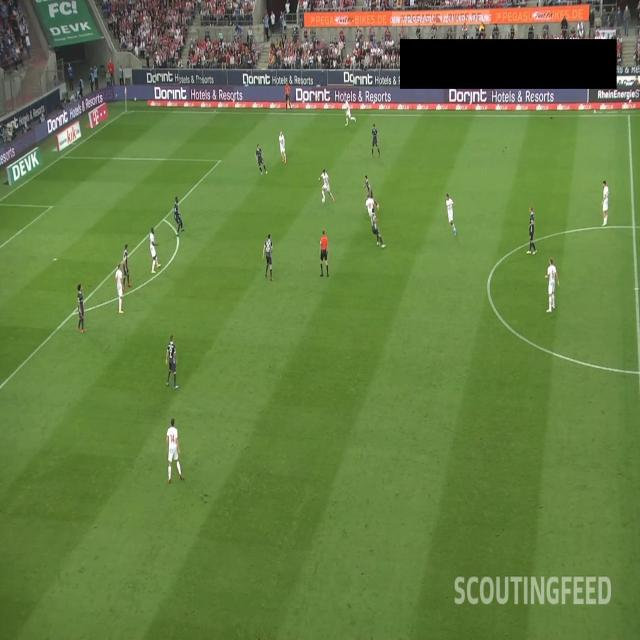ball: (322, 197, 326, 204)
